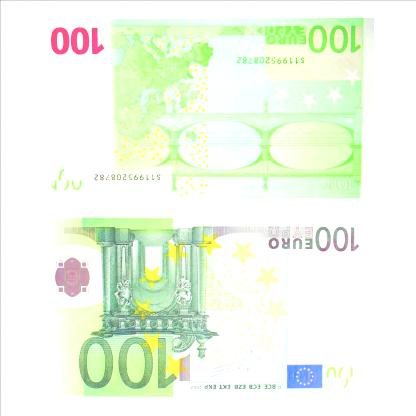euro_banknote: (45, 220, 379, 405), (41, 18, 375, 201)
